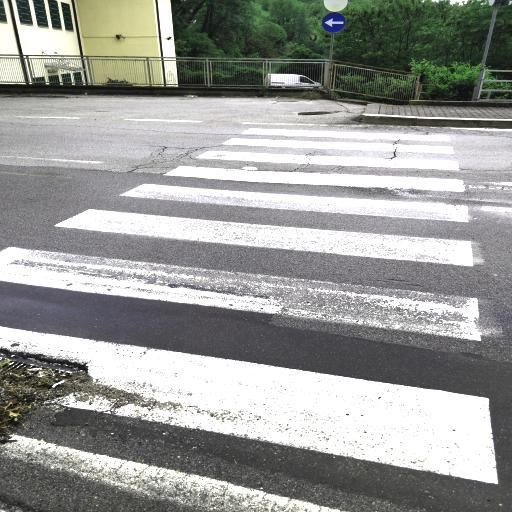crosswalk: (50, 180, 484, 276), (212, 124, 462, 157)
